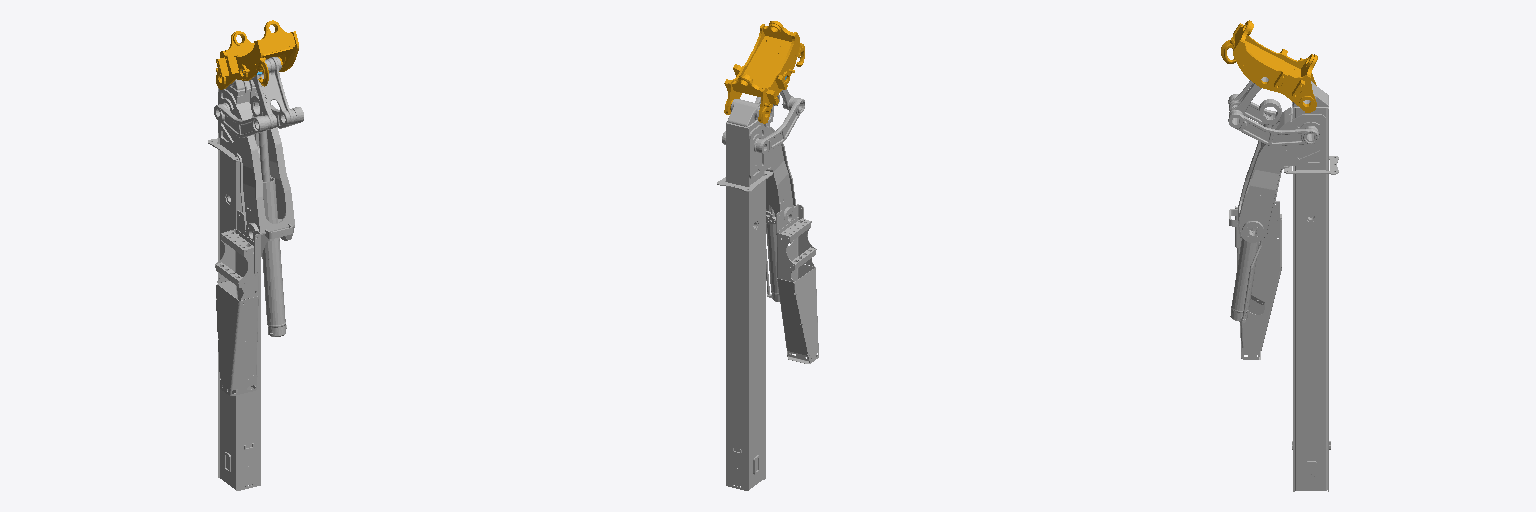
robot.urdf — m545_prallel2:
<?xml version="1.0"?>
<robot
  name="m545_prallel2">
  <link
    name="telescope">
    <inertial>
      <origin
        xyz="-0.0251762959894512 -0.122434018632413 -0.070717815654961"
        rpy="0 0 0" />
      <mass
        value="50.6757128595268" />
      <inertia
        ixx="38.9664709780259"
        ixy="-0.362417718058571"
        ixz="-0.370358945215419"
        iyy="37.7073441826793"
        iyz="1.04259450041213"
        izz="2.41696044620818" />
    </inertial>
    <visual>
      <origin
        xyz="0 0 0"
        rpy="0 0 0" />
      <geometry>
        <mesh
          filename="package://m545_prallel2/meshes/telescope.STL" />
      </geometry>
      <material
        name="">
        <color
          rgba="0.752941176470588 0.752941176470588 0.752941176470588 1" />
      </material>
    </visual>
    <collision>
      <origin
        xyz="0 0 0"
        rpy="0 0 0" />
      <geometry>
        <mesh
          filename="package://m545_prallel2/meshes/telescope.STL" />
      </geometry>
    </collision>
  </link>
  <link
    name="shovel_parallel_link1">
    <inertial>
      <origin
        xyz="-8.51799292211908E-09 -0.279862629541826 -0.033363057632168"
        rpy="0 0 0" />
      <mass
        value="4.485678147532" />
      <inertia
        ixx="0.19413282808827"
        ixy="-0.000928581471632878"
        ixz="-0.000218936165422339"
        iyy="0.123784323323483"
        iyz="-0.0392211630807236"
        izz="0.28092884237733" />
    </inertial>
    <visual>
      <origin
        xyz="0 0 0"
        rpy="0 0 0" />
      <geometry>
        <mesh
          filename="package://m545_prallel2/meshes/shovel_parallel_link1.STL" />
      </geometry>
      <material
        name="">
        <color
          rgba="0.752941176470588 0.752941176470588 0.752941176470588 1" />
      </material>
    </visual>
    <collision>
      <origin
        xyz="0 0 0"
        rpy="0 0 0" />
      <geometry>
        <mesh
          filename="package://m545_prallel2/meshes/shovel_parallel_link1.STL" />
      </geometry>
    </collision>
  </link>
  <joint
    name="shovel_paralle_link1_joint"
    type="revolute">
    <origin
      xyz="0.0015 -0.0088821 0.88184"
      rpy="-3.1416 -3.4413E-14 3.1416" />
    <parent
      link="telescope" />
    <child
      link="shovel_parallel_link1" />
    <axis
      xyz="-1 0 0" />
    <limit
      effort="0"
      velocity="0" />
  </joint>
  <link
    name="shovel_parallel_link2">
    <inertial>
      <origin
        xyz="0.00198855543662974 0.118065892690214 0.172637302835257"
        rpy="0 0 0" />
      <mass
        value="3.0264087069137" />
      <inertia
        ixx="0.0790548751003764"
        ixy="-7.8837740889272E-07"
        ixz="-6.63212558751087E-07"
        iyy="0.0690873303846564"
        iyz="-0.0347735050807112"
        izz="0.0428287246291022" />
    </inertial>
    <visual>
      <origin
        xyz="0 0 0"
        rpy="0 0 0" />
      <geometry>
        <mesh
          filename="package://m545_prallel2/meshes/shovel_parallel_link2.STL" />
      </geometry>
      <material
        name="">
        <color
          rgba="0.752941176470588 0.752941176470588 0.752941176470588 1" />
      </material>
    </visual>
    <collision>
      <origin
        xyz="0 0 0"
        rpy="0 0 0" />
      <geometry>
        <mesh
          filename="package://m545_prallel2/meshes/shovel_parallel_link2.STL" />
      </geometry>
    </collision>
  </link>
  <joint
    name="shovel_parallel_link2_joint"
    type="revolute">
    <origin
      xyz="0.0015 -0.54512 -0.12848"
      rpy="3.1416 -1.5777E-30 -3.1416" />
    <parent
      link="shovel_parallel_link1" />
    <child
      link="shovel_parallel_link2" />
    <axis
      xyz="1 0 0" />
    <limit
      effort="0"
      velocity="0" />
  </joint>
  <link
    name="shovel_parallel_link2_to_rotor_tilt_parallel" />
  <joint
    name="shovel_parallel_link2_to_rotor_tilt_parallel_joint"
    type="fixed">
    <origin
      xyz="0 0.21149 0.31571"
      rpy="-1.5708 -0.8737 1.5708" />
    <parent
      link="shovel_parallel_link2" />
    <child
      link="shovel_parallel_link2_to_rotor_tilt_parallel" />
    <axis
      xyz="0 0 0" />
  </joint>
  <link
    name="shovel_cylinder_to_parallel_link1_parallel_2" />
  <joint
    name="shovel_cylinder_to_parallel_link1_parallel_joint2"
    type="fixed">
    <origin
      xyz="0.0015 -0.54512 -0.12848"
      rpy="3.1416 -1.5777E-30 -3.1416" />
    <parent
      link="shovel_parallel_link1" />
    <child
      link="shovel_cylinder_to_parallel_link1_parallel_2" />
    <axis
      xyz="0 0 0" />
  </joint>
  <link
    name="shovel_cylinder">
    <inertial>
      <origin
        xyz="-0.213700087308717 0.0260453420818134 0.00107394995133003"
        rpy="0 0 0" />
      <mass
        value="7.7948975679225" />
      <inertia
        ixx="0.046751791426886"
        ixy="0.109681013653722"
        ixz="0.0035887671829448"
        iyy="0.793869167253777"
        iyz="-0.000294618522187736"
        izz="0.807406070169547" />
    </inertial>
    <visual>
      <origin
        xyz="0 0 0"
        rpy="0 0 0" />
      <geometry>
        <mesh
          filename="package://m545_prallel2/meshes/shovel_cylinder.STL" />
      </geometry>
      <material
        name="">
        <color
          rgba="0.752941176470588 0.752941176470588 0.752941176470588 1" />
      </material>
    </visual>
    <collision>
      <origin
        xyz="0 0 0"
        rpy="0 0 0" />
      <geometry>
        <mesh
          filename="package://m545_prallel2/meshes/shovel_cylinder.STL" />
      </geometry>
    </collision>
  </link>
  <joint
    name="shovel_cylinder"
    type="revolute">
    <origin
      xyz="0.0018083 -0.42986 0.11162"
      rpy="3.1416 -1.5708 0" />
    <parent
      link="telescope" />
    <child
      link="shovel_cylinder" />
    <axis
      xyz="0 0 -1" />
    <limit
      effort="0"
      velocity="0" />
  </joint>
  <link
    name="shovel_piston">
    <inertial>
      <origin
        xyz="-0.260194070882354 3.73003767319718 -1.23517031671365"
        rpy="0 0 0" />
      <mass
        value="1868.68809094591" />
      <inertia
        ixx="10438.1162190134"
        ixy="260.404927200917"
        ixz="-217.293669672649"
        iyy="6137.21752674653"
        iyz="3673.56529091459"
        izz="7849.24723412392" />
    </inertial>
    <visual>
      <origin
        xyz="0 0 0"
        rpy="0 0 0" />
      <geometry>
        <mesh
          filename="package://m545_prallel2/meshes/shovel_piston.STL" />
      </geometry>
      <material
        name="">
        <color
          rgba="0.752941176470588 0.752941176470588 0.752941176470588 1" />
      </material>
    </visual>
    <collision>
      <origin
        xyz="0 0 0"
        rpy="0 0 0" />
      <geometry>
        <mesh
          filename="package://m545_prallel2/meshes/shovel_piston.STL" />
      </geometry>
    </collision>
  </link>
  <joint
    name="shovel_piston_joint"
    type="prismatic">
    <origin
      xyz="0.34516 -0.047677 0"
      rpy="0.13726 1.5708 0" />
    <parent
      link="shovel_cylinder" />
    <child
      link="shovel_piston" />
    <axis
      xyz="0 0 -1" />
    <limit
      effort="0"
      velocity="0" />
  </joint>
  <link
    name="shovel_cylinder_to_parallel_link1_parallel" />
  <joint
    name="shovel_cylinder_to_parallel_link1_parallel_joint"
    type="fixed">
    <origin
      xyz="-0.0018083 0 0.5588"
      rpy="-0.13726 -5.7969E-15 1.4349E-14" />
    <parent
      link="shovel_piston" />
    <child
      link="shovel_cylinder_to_parallel_link1_parallel" />
    <axis
      xyz="0 0 0" />
  </joint>
  <link
    name="shovel_link">
    <inertial>
      <origin
        xyz="-0.0176253774945705 0.32142611940313 0.00806759407032404"
        rpy="0 0 0" />
      <mass
        value="29.5529874934542" />
      <inertia
        ixx="1.90250522775099"
        ixy="-0.168725516939882"
        ixz="-0.0272750918960807"
        iyy="0.651987157645773"
        iyz="-0.0405921454532976"
        izz="1.57959827410494" />
    </inertial>
    <visual>
      <origin
        xyz="0 0 0"
        rpy="0 0 0" />
      <geometry>
        <mesh
          filename="package://m545_prallel2/meshes/shovel_link.STL" />
      </geometry>
      <material
        name="">
        <color
          rgba="0.941176470588235 0.674509803921569 0.117647058823529 1" />
      </material>
    </visual>
    <collision>
      <origin
        xyz="0 0 0"
        rpy="0 0 0" />
      <geometry>
        <mesh
          filename="package://m545_prallel2/meshes/shovel_link.STL" />
      </geometry>
    </collision>
  </link>
  <joint
    name="shovel"
    type="revolute">
    <origin
      xyz="0.0015 -0.038894 1.1518"
      rpy="1.5708 0.8737 -1.5708" />
    <parent
      link="telescope" />
    <child
      link="shovel_link" />
    <axis
      xyz="0 0 -1" />
    <limit
      effort="0"
      velocity="0" />
  </joint>

<!--
<link    name="shovel_rotor_tilt_to_parallel_link2" /> -->
  <link    name="shovel_rotor_tilt_to_parallel_link2" >
    <collision>
      <origin rpy="0 0 0" xyz="0 0 0.1"/>
      <geometry>
        <box size="0.1 0.1 0.1"/>
      </geometry>
    </collision>
    <visual>
      <origin rpy="0 0 0" xyz="0 0 0.1"/>
      <geometry>
        <box size="0.1 0.1 0.1"/>
      </geometry>
      <material name="orange"/>
    </visual>
    <inertial>
      <origin rpy="0 0 0" xyz="0 0 0.1"/>
      <mass value="1.0"/>
      <inertia ixx="0.208333333333" ixy="0" ixz="0" iyy="0.208333333333" iyz="0" izz="0.208333333333"/>
    </inertial>
</link> 
  <joint
    name="shovel_rotor_tilt_to_parallel_link2_joint"
    type="fixed">
    <origin
      xyz="0.061365 0.34462 0.0015"
      rpy="8.9101E-16 -1.6444E-15 -3.1416" />
    <parent
      link="shovel_link" />
    <child
      link="shovel_rotor_tilt_to_parallel_link2" />
    <axis
      xyz="0 0 0" />
  </joint>

<gazebo reference='shovel_parallel_link2_to_rotor_tilt_parallel_joint'> 
    <disableFixedJointLumping>true</disableFixedJointLumping>
</gazebo>
<gazebo reference='shovel_cylinder_to_parallel_link1_parallel_joint2'>
      <disableFixedJointLumping>true</disableFixedJointLumping>
</gazebo>
<gazebo reference='shovel_cylinder_to_parallel_link1_parallel_joint'>  
    <disableFixedJointLumping>true</disableFixedJointLumping>
</gazebo>
<gazebo reference='shovel_rotor_tilt_to_parallel_link2_joint'>
    <disableFixedJointLumping>true</disableFixedJointLumping>
</gazebo>

  <gazebo>
  <joint name="joint_link2_to_rotor_tilt_closed" type="revolute">
    <parent>shovel_parallel_link2_to_rotor_tilt_parallel</parent>
    <child>shovel_rotor_tilt_to_parallel_link2</child>
    <pose>-0 0 0 0 0 0</pose>
    <axis>    <xyz>0 1 0</xyz>   </axis>
  </joint>
  <joint name="joint_link2_to_rotor_tilt_closed" type="revolute">
    <parent>shovel_parallel_link2_to_rotor_tilt_parallel</parent>
    <child>shovel_rotor_tilt_to_parallel_link2</child>
    <pose>-0 0 0 0 0 0</pose>
    <axis>    <xyz>0 1 0</xyz>   </axis>
  </joint>
  </gazebo>

</robot>

--- Facts derived from the render (not from the file) ---
Views: 3 orthographic renders of the robot side by side, from view 1: azimuth 30°, elevation 25°; view 2: azimuth 150°, elevation 25°; view 3: azimuth 270°, elevation 25°.
Model m545_prallel2 with 10 links and 9 joints (4 revolute, 1 prismatic, 4 fixed), rooted at telescope, posed every joint at zero.
Links seen in each view (by area): view 1: telescope, shovel_link, shovel_cylinder, shovel_parallel_link2, shovel_parallel_link1, shovel_piston; view 2: telescope, shovel_link, shovel_parallel_link1, shovel_cylinder; view 3: telescope, shovel_link, shovel_parallel_link1, shovel_cylinder, shovel_parallel_link2.
Link boxes in pixels (bbox=[...]): telescope: bbox=[208, 79, 294, 490]; shovel_link: bbox=[216, 20, 298, 89]; shovel_cylinder: bbox=[262, 177, 286, 336]; shovel_parallel_link2: bbox=[251, 57, 296, 129]; shovel_parallel_link1: bbox=[214, 104, 303, 137]; shovel_piston: bbox=[251, 95, 270, 181]; telescope: bbox=[717, 99, 818, 490]; shovel_link: bbox=[724, 21, 804, 123]; shovel_parallel_link1: bbox=[722, 97, 804, 153]; shovel_cylinder: bbox=[766, 203, 779, 301]; telescope: bbox=[1229, 81, 1338, 491]; shovel_link: bbox=[1221, 20, 1317, 112]; shovel_parallel_link1: bbox=[1228, 94, 1318, 145]; shovel_cylinder: bbox=[1230, 228, 1262, 322]; shovel_parallel_link2: bbox=[1229, 77, 1268, 121].
Bounding box of the posed robot: 0.581 × 0.8576 × 3.72 m (x, y, z).
6 mesh visuals loaded from 6 distinct referenced files (6 binary STL).